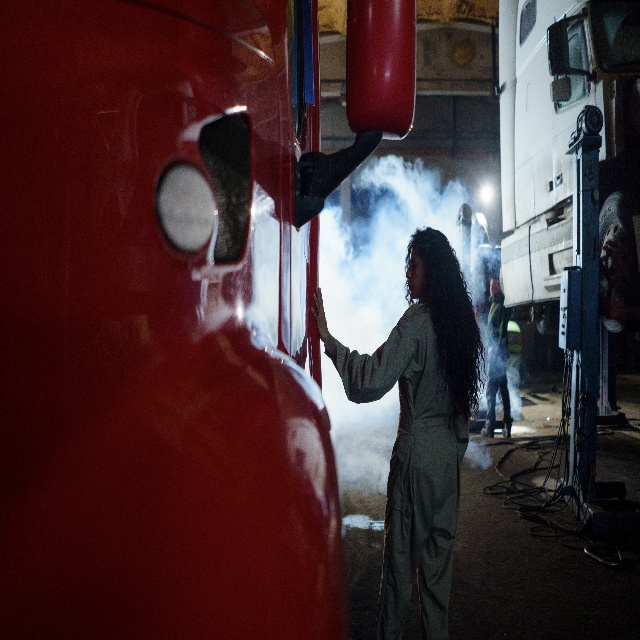Sin_guantes: (310, 287, 328, 341)
